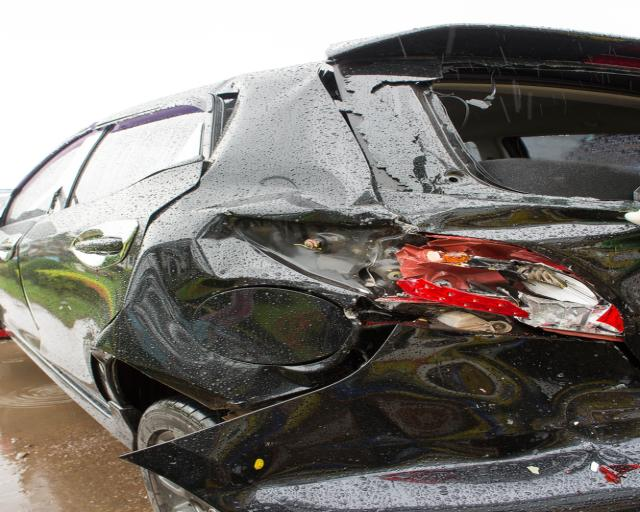dent: (254, 344, 640, 507), (177, 166, 408, 293), (424, 204, 637, 241), (251, 367, 312, 399)
lamp broken: (364, 230, 626, 339)
